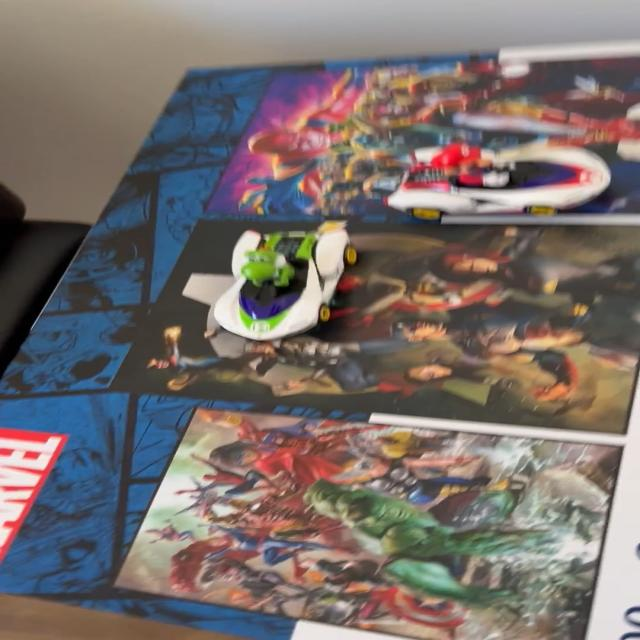mario: (374, 132, 631, 226)
yoshi: (178, 217, 365, 351)
